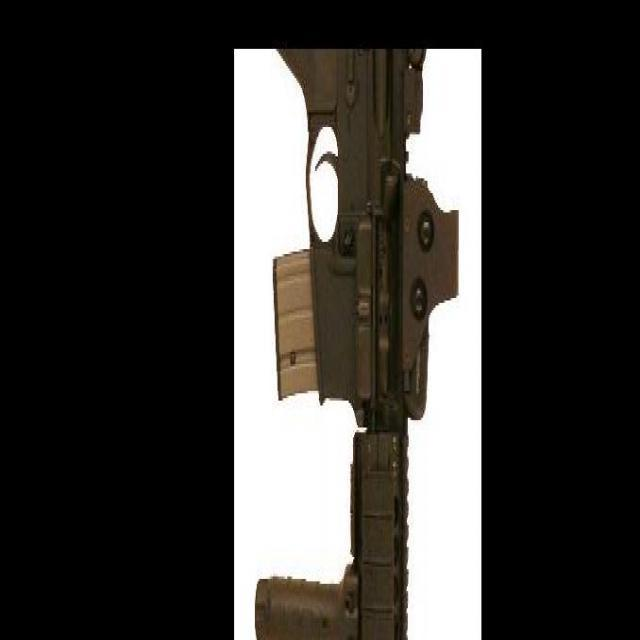weapon: (253, 47, 460, 640)
